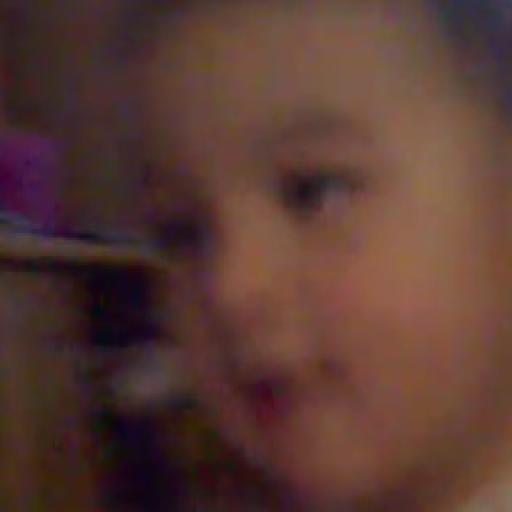Autism: (116, 2, 512, 512)
